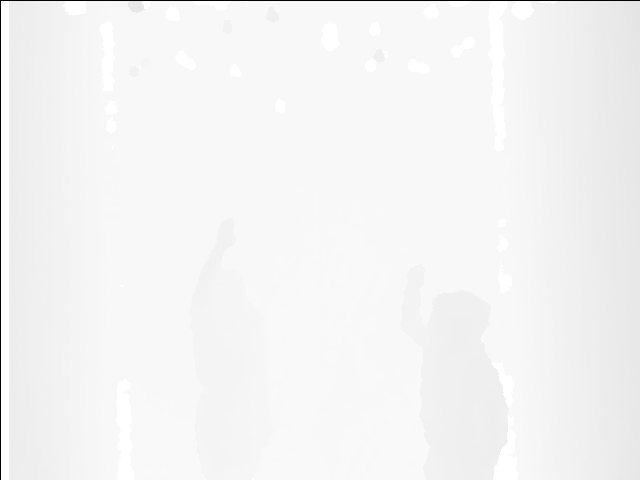hand: (212, 217, 241, 251), (406, 263, 428, 293)
